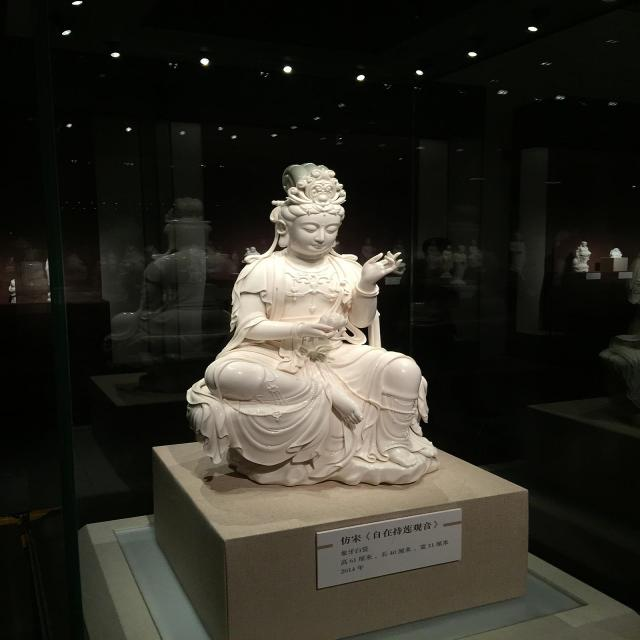Guan Yin: (227, 163, 401, 398)
